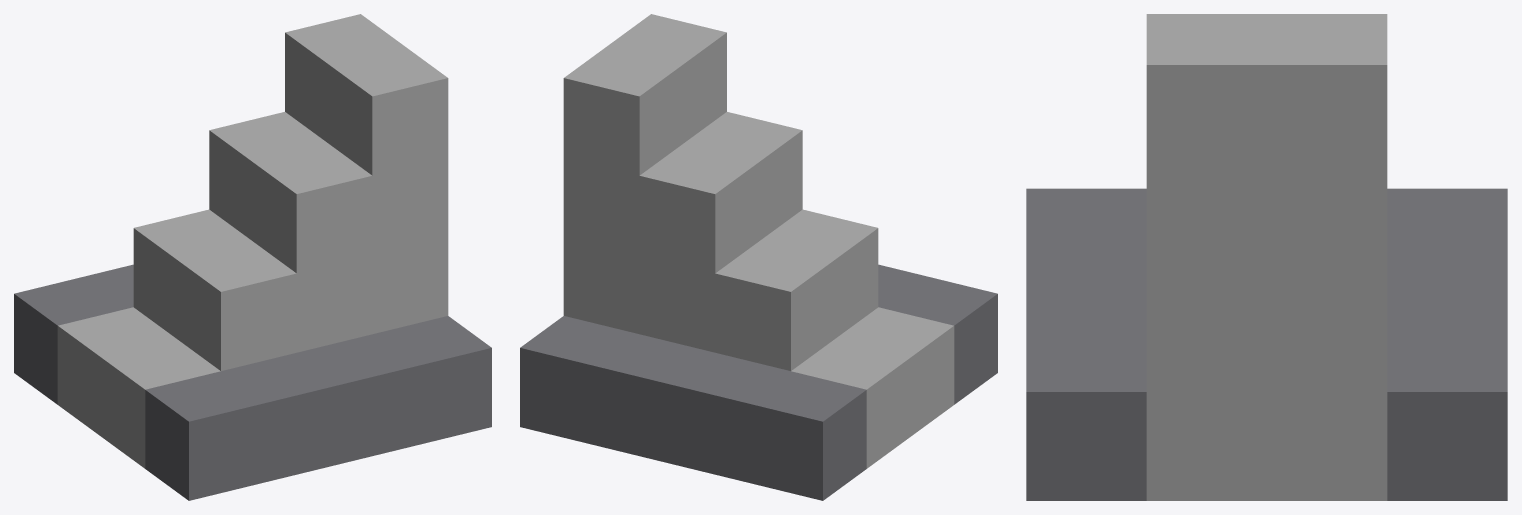
File: stair_roof.glb
The picture shows the model from 3 angles, left to right: view 1: azimuth 30°, elevation 25°; view 2: azimuth 150°, elevation 25°; view 3: azimuth 270°, elevation 25°; orthographic projection. The views are drawn at different scales.
Visible parts, largest first — view 1: stair_roof; view 2: stair_roof; view 3: stair_roof.
Boxes of the visible parts, bbox=[...] form: stair_roof: bbox=[14, 14, 491, 500]; stair_roof: bbox=[520, 14, 997, 500]; stair_roof: bbox=[1026, 14, 1507, 500].
Bounding box in the file's own units: 1 × 1 × 1.
1 material, 1 textured.
